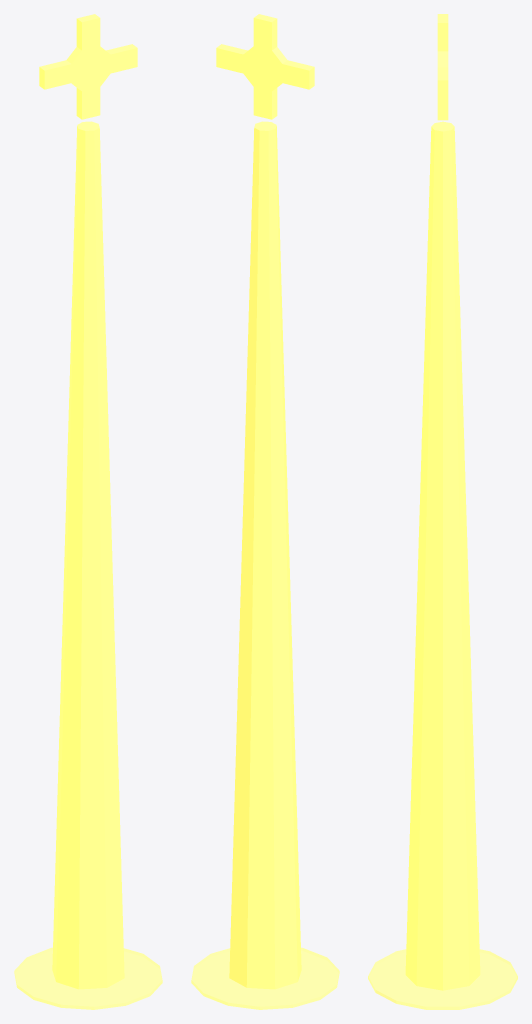
The model's file is fx_drop_rare.glb.
3 views of the same model, side by side, from view 1: azimuth 30°, elevation 25°; view 2: azimuth 150°, elevation 25°; view 3: azimuth 270°, elevation 25° (orthographic).
Parts seen in each view (by area): view 1: fx_drop_rare; view 2: fx_drop_rare; view 3: fx_drop_rare.
Part boxes in pixels (box(x1,y1,x2,y2)): fx_drop_rare: box(14, 14, 162, 1009); fx_drop_rare: box(191, 14, 339, 1009); fx_drop_rare: box(368, 14, 517, 1009).
Size of the model in its own units: 0.624 by 4.53 by 0.64.
